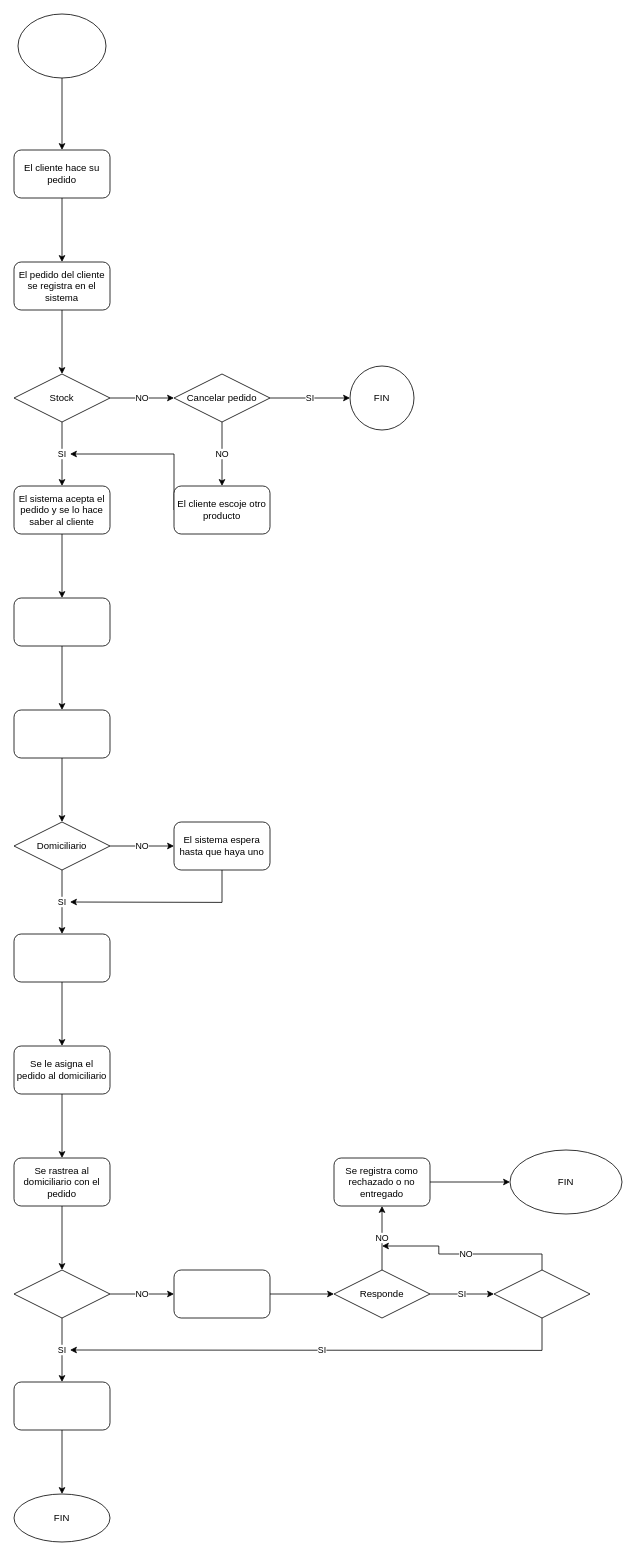
Image size: 636x1556. Some labels were removed from this diagram. The centre of each missing label's shape, as x and y in pixels:
"Cuando el pedido se termina se busca un domiciliaro" belongs at point 61,733.
"El cliente sigue necesitando el pedido?" belongs at point 541,1293.
"El sistema busca el mas cercano" belongs at point 61,957.
"Entrega" belongs at point 61,1293.
"INICIO" belongs at point 61,45.
"Se habla con el cliente" belongs at point 221,1293.
"Se hace el pedido" belongs at point 61,621.
"Se registra como exitoso" belongs at point 61,1405.
